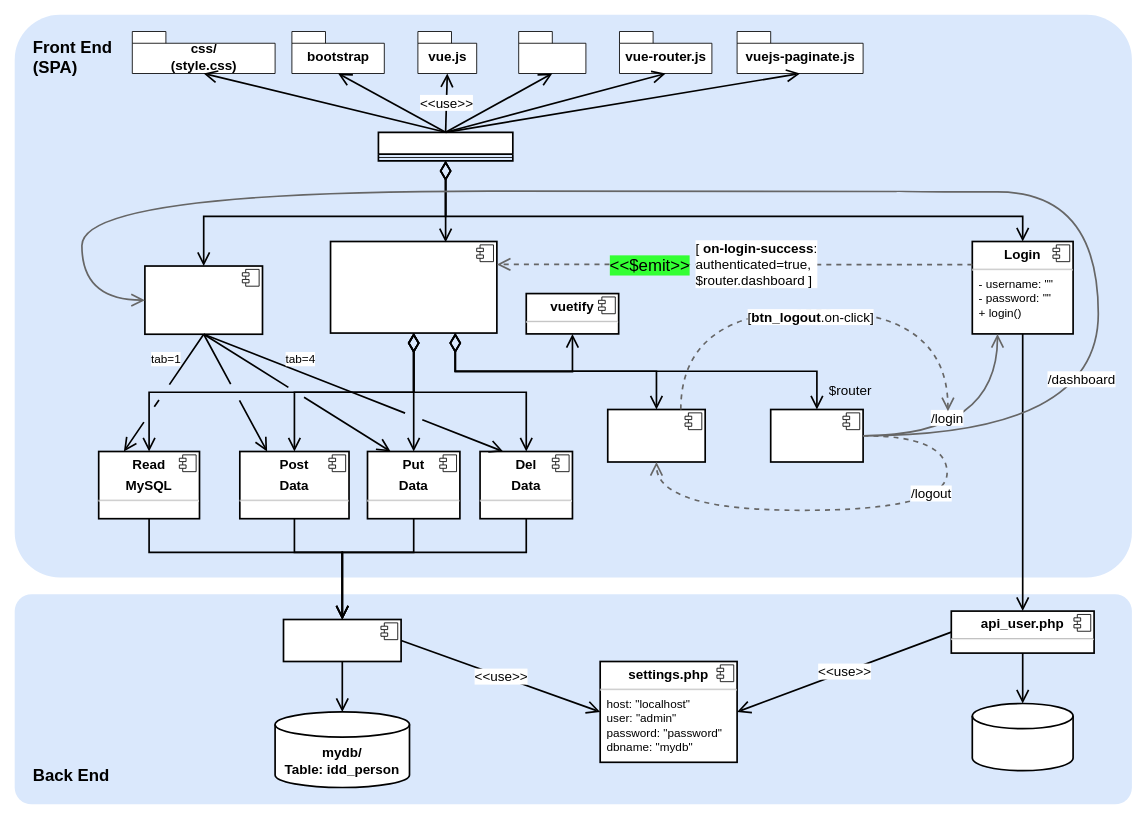
Image size: 1146x818. Some labels were removed from this diagram. The centre of each missing label's shape, as x and y in pixels:
apis.php: (342,640)
app-nav logout(): (656,435)
Dashboard tab: int {1,4] items: [...]: (203,300)
index.html: (445,146)
mydb/ Table: users: (1022,736)
root (main.js) - authenticated: boolean + logout(): (413,286)
router: (816,435)
vuetify.js: (552,52)
